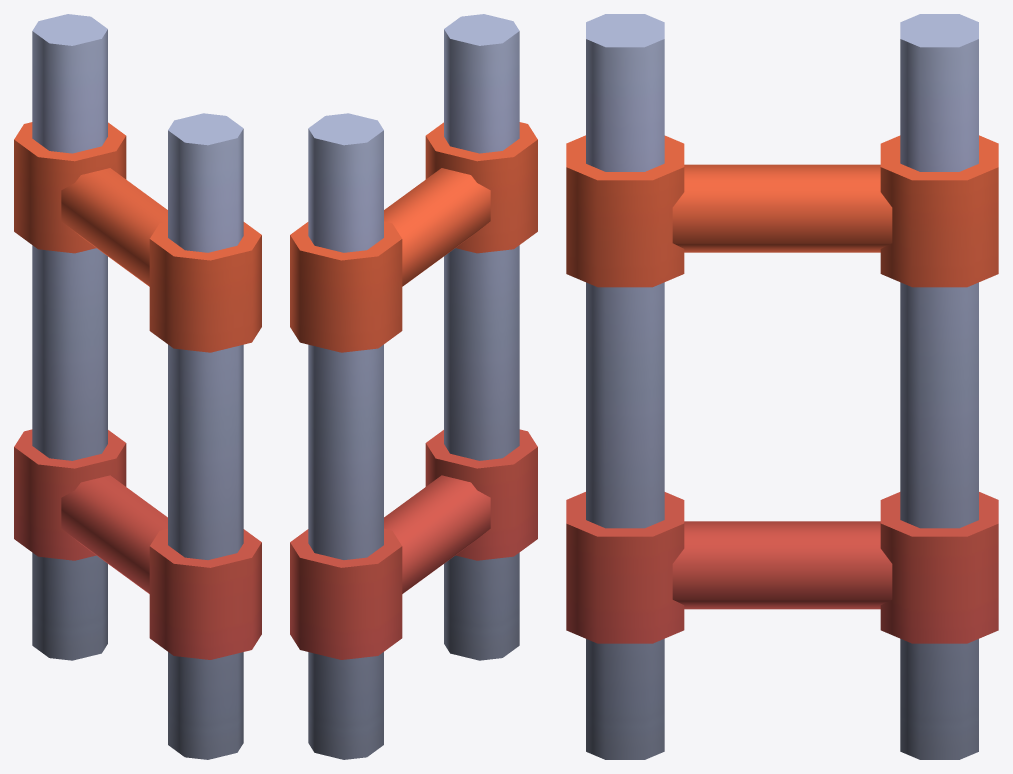
File: kenney-prototype-ladder-color.glb
3 views of the same model, side by side, from view 1: azimuth 30°, elevation 25°; view 2: azimuth 150°, elevation 25°; view 3: azimuth 270°, elevation 25° (orthographic). The views are drawn at different scales.
Visible parts, largest first — view 1: ladder-color; view 2: ladder-color; view 3: ladder-color.
Boxes of the visible parts, x1,y1,x2,y2 form: ladder-color: (14, 14, 261, 759); ladder-color: (290, 14, 537, 759); ladder-color: (566, 14, 998, 759).
Bounding box in the file's own units: 0.15 × 1 × 0.55.
1 material, 1 textured.
